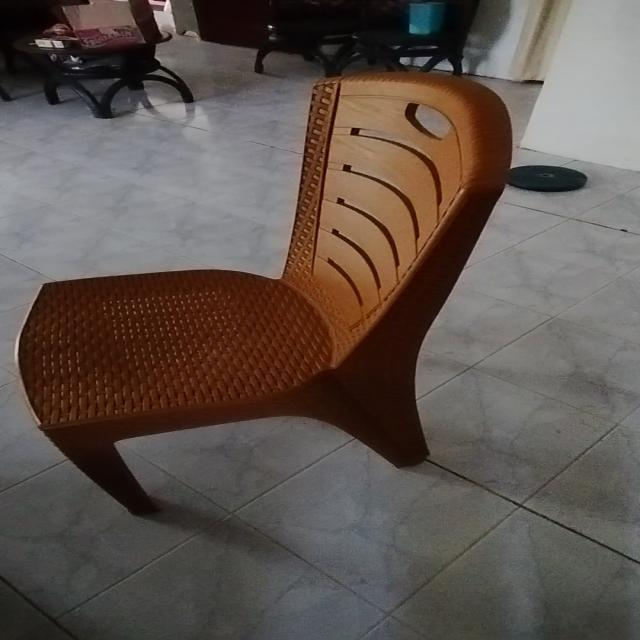chair: (2, 62, 579, 552)
